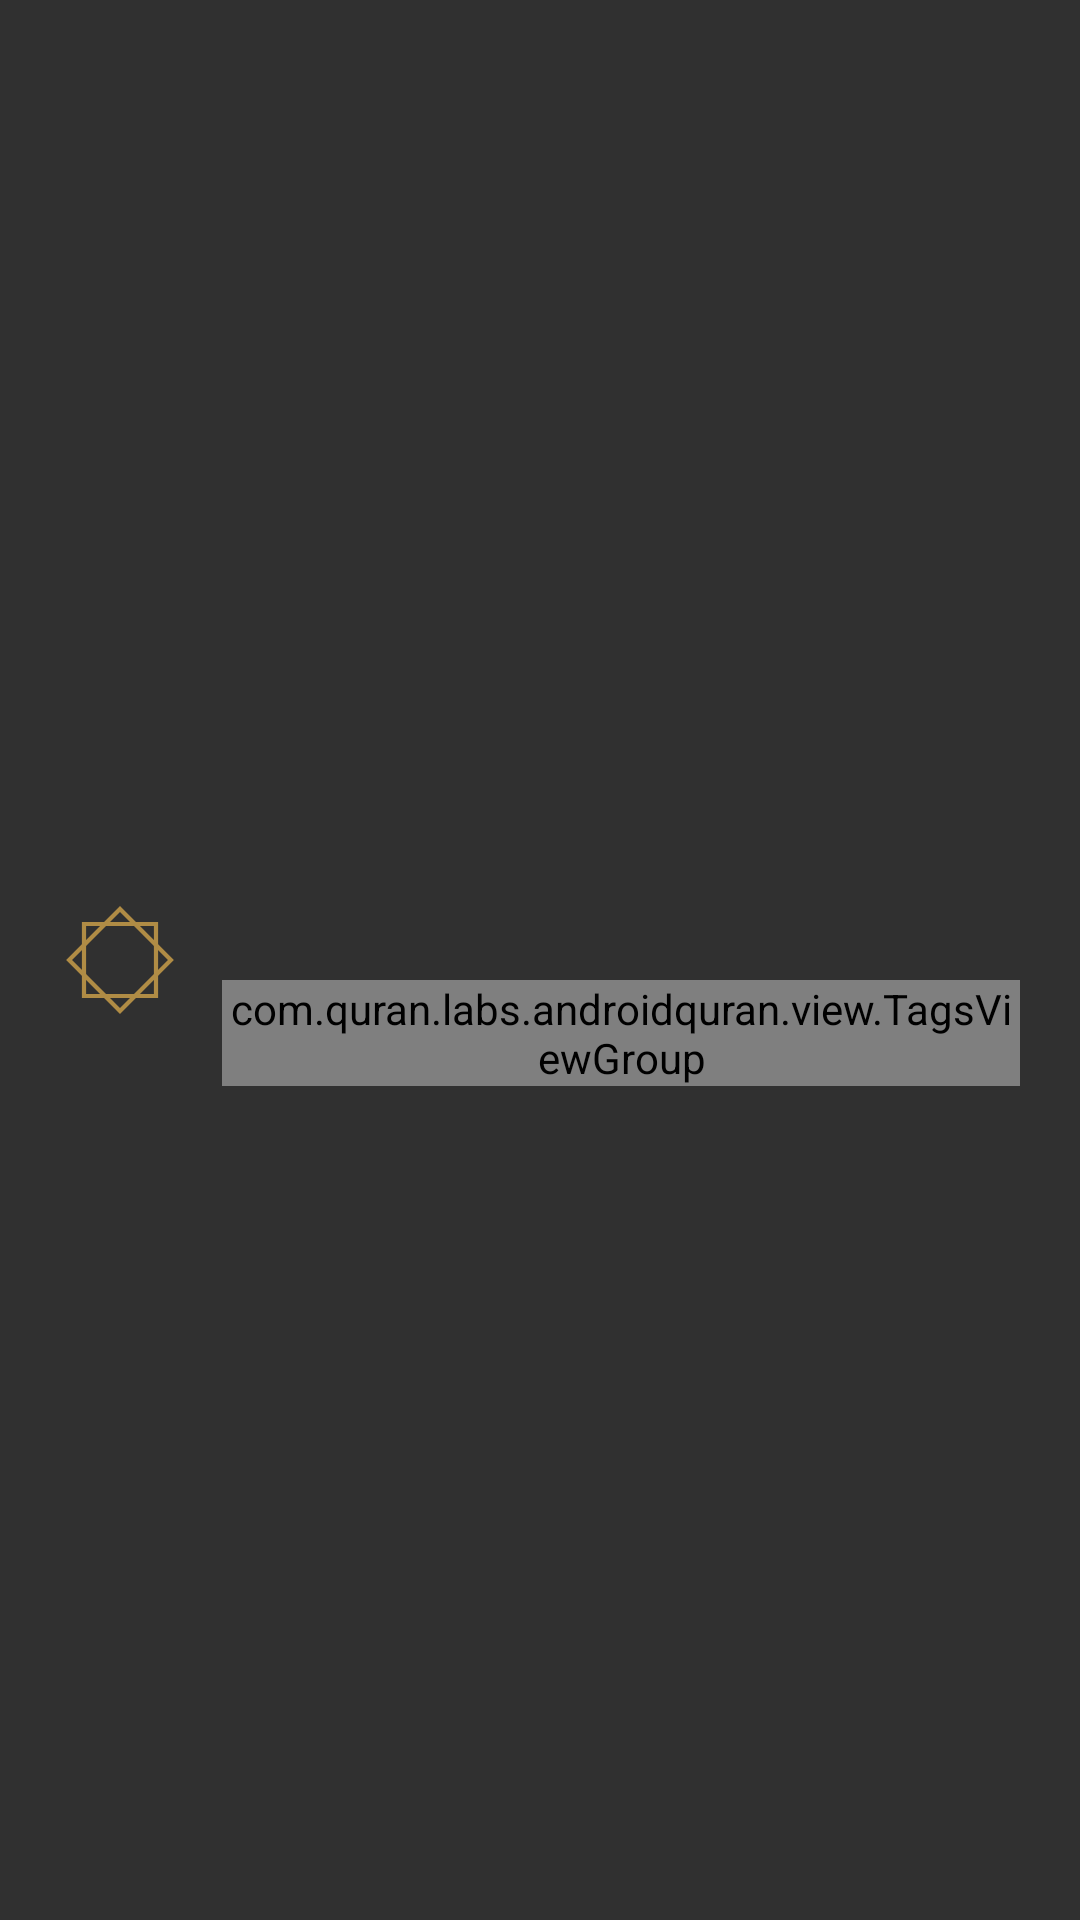

Where to tap for icons on this 1080 × 1920 app screen, as (x,y):
tasnim sura star: (120,960)
